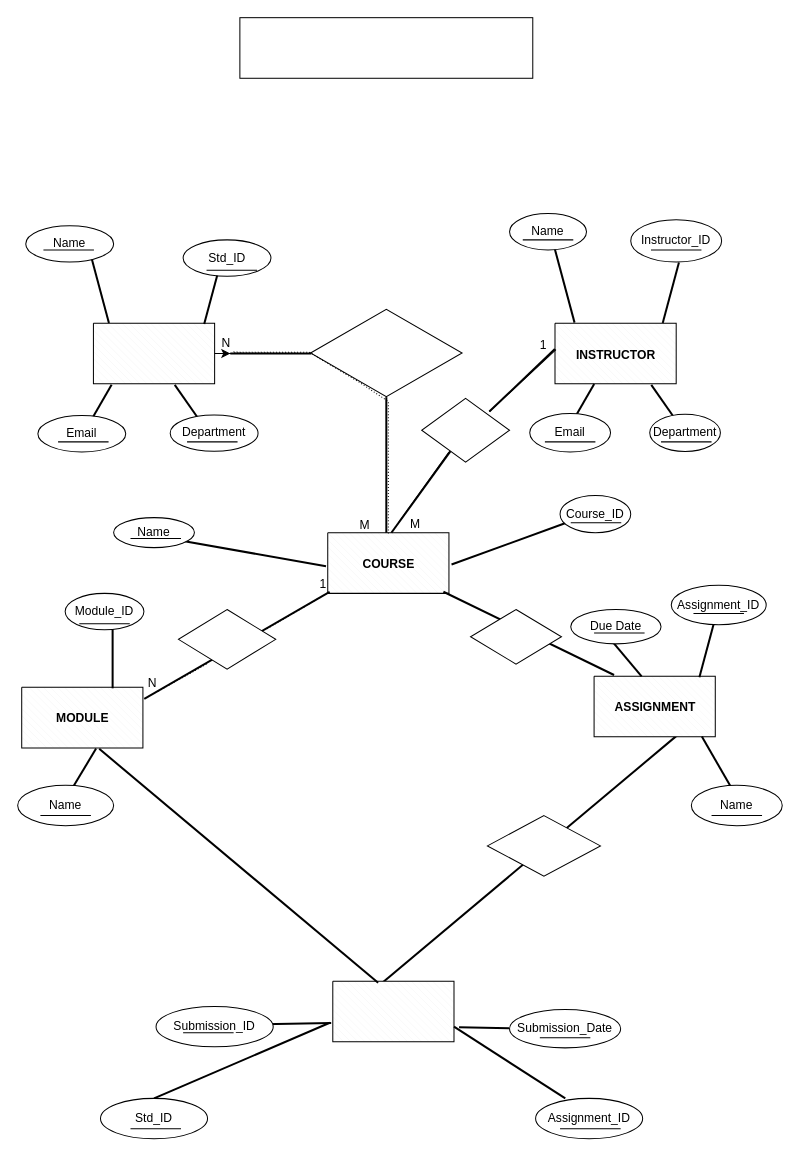
This 800x1156 diagram has some shape labels left out. The centre of each missing label's shape, as x and y in pixels:
"ENROLLS_IN Enrollment_Date" goes at pixel 386 352.
"HAS" goes at pixel 226 639.
"INCLUDES" goes at pixel 515 636.
"LEARNING MANAGEMENT SYSTEM" goes at pixel 386 47.
"STUDENT" goes at pixel 153 353.
"SUBMISSION" goes at pixel 393 1011.
"SUBMITS" goes at pixel 543 845.
"TEACHES" goes at pixel 465 429.
